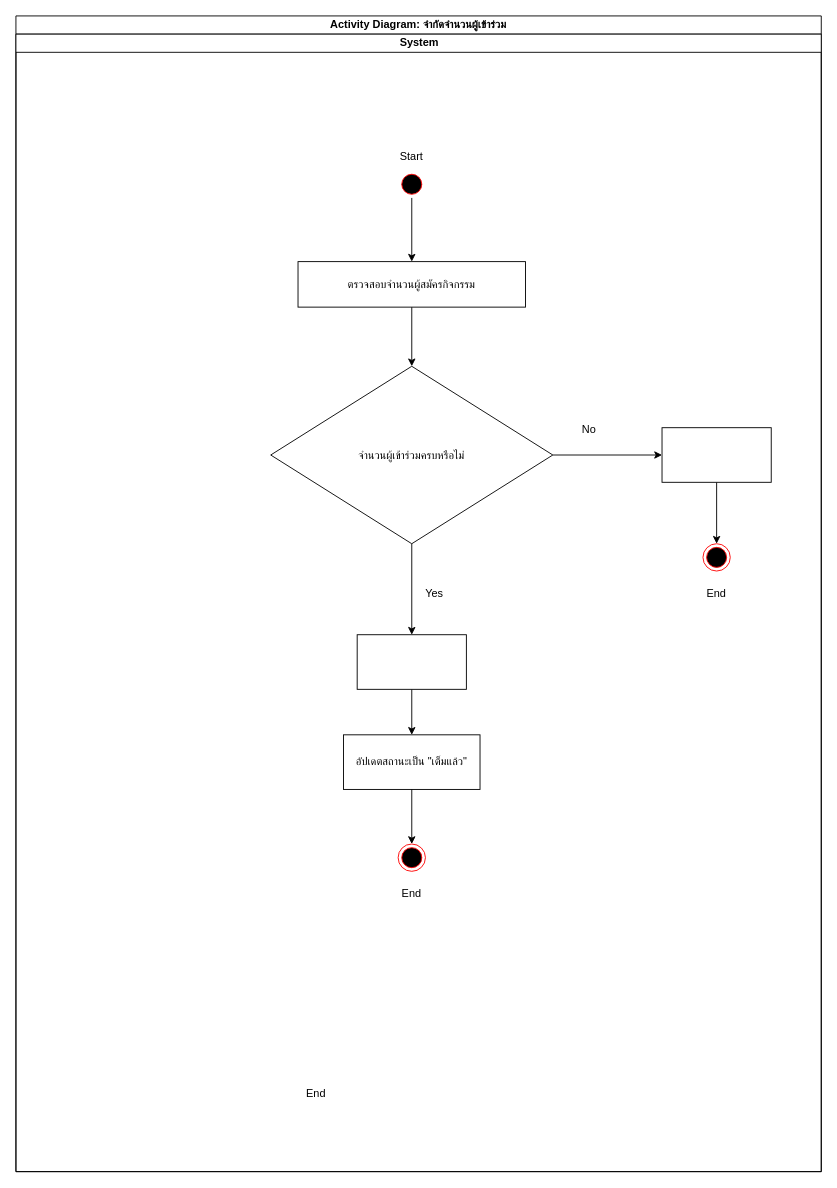
Image size: 837x1188. Some labels were removed from this diagram. The shapes that lost their labels are listed below. From the top down, each one's centre as x and y in pixels, then its label:
At pixel 716 454: "[เปิดให้สมัครต่อ".
At pixel 411 661: "ปิดการสมัครกิจกรรม".
